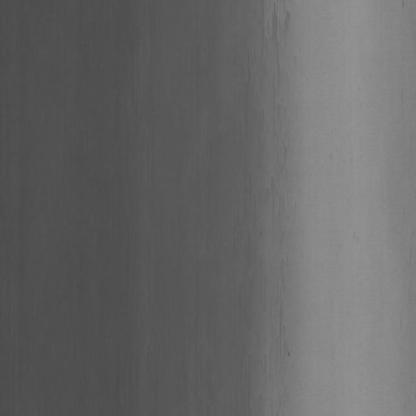water_spot: (228, 4, 293, 350)
